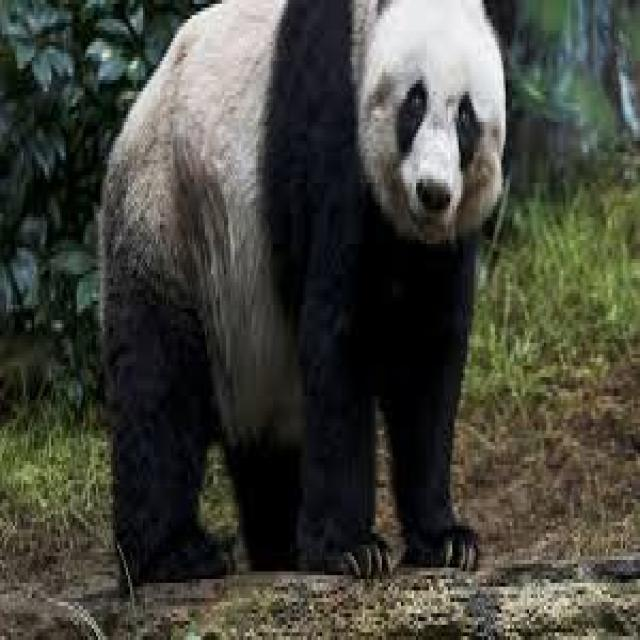Panda: (91, 0, 531, 606)
